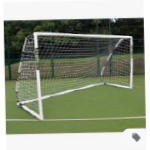goals: (13, 29, 135, 122)
